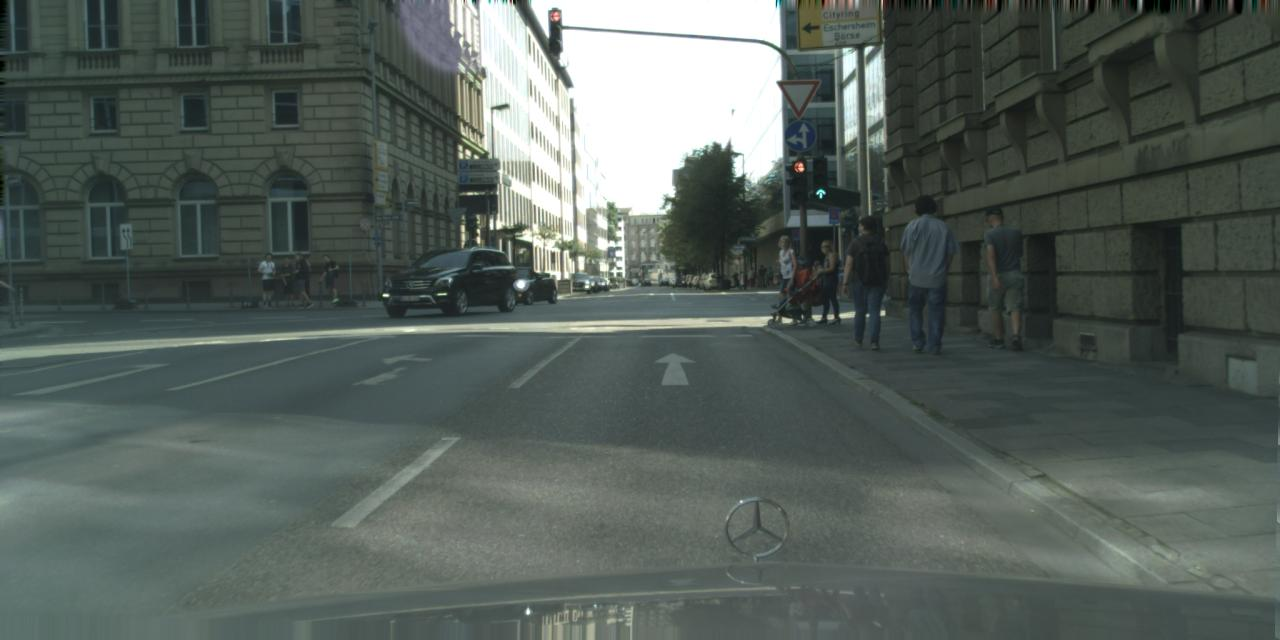ped: (892, 194, 957, 352), (972, 206, 1029, 348), (840, 214, 894, 347), (766, 234, 802, 325), (809, 239, 844, 324), (289, 253, 312, 308), (257, 253, 279, 306), (278, 256, 298, 305), (320, 254, 340, 302), (293, 254, 311, 298), (832, 260, 847, 298), (811, 261, 825, 297), (756, 264, 766, 288), (746, 266, 755, 288), (766, 266, 775, 288), (738, 270, 746, 290), (732, 270, 739, 288)
